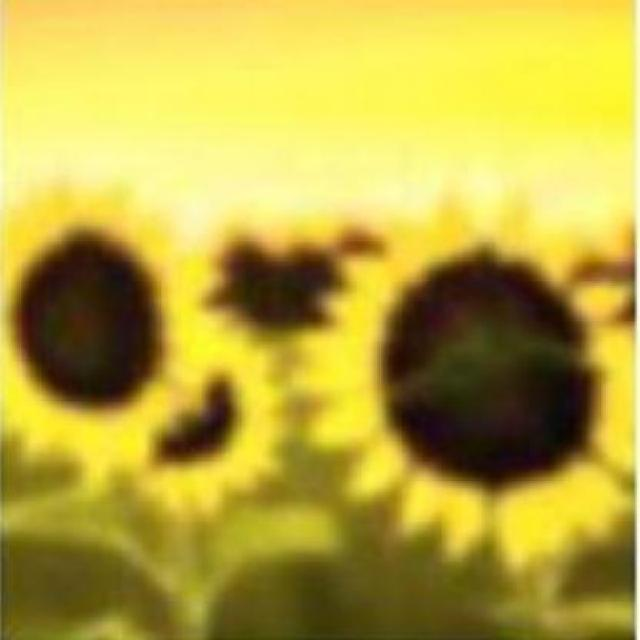sunflower: (312, 207, 639, 555), (0, 170, 218, 464)
